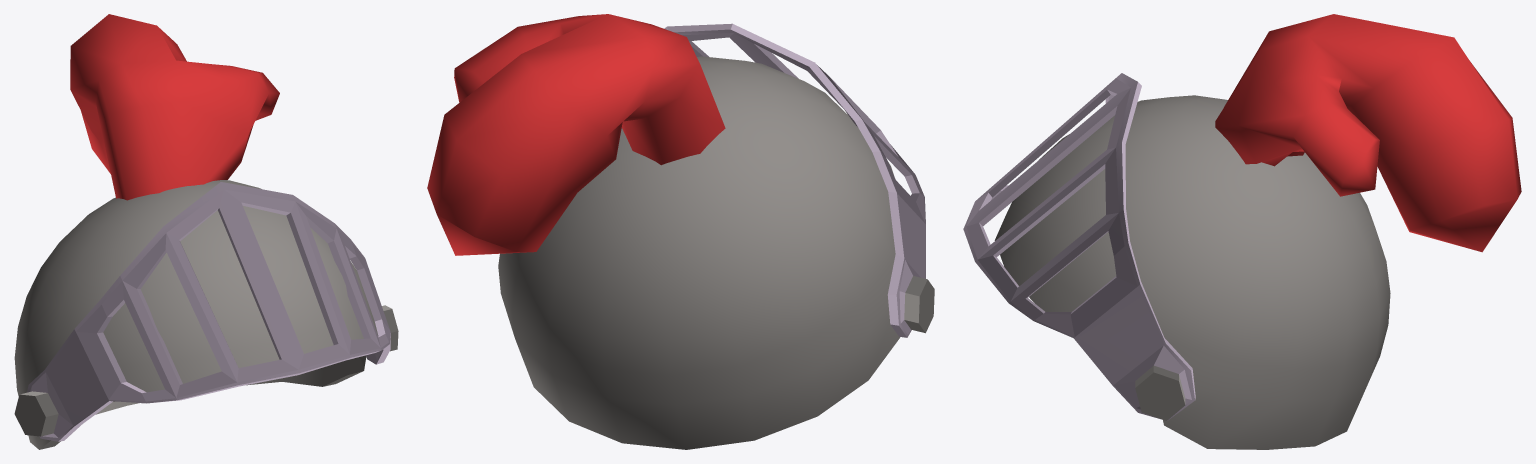
File: Hat_34_01.fbx
3 views of the same model, side by side, from view 1: azimuth 30°, elevation 25°; view 2: azimuth 150°, elevation 25°; view 3: azimuth 270°, elevation 25° (orthographic). The views are drawn at different scales.
Visible parts, largest first — view 1: Hat_34_01; view 2: Hat_34_01; view 3: Hat_34_01.
Boxes of the visible parts, left/top/right/bottom form: Hat_34_01: left=14, top=14, right=398, bottom=449; Hat_34_01: left=427, top=14, right=934, bottom=449; Hat_34_01: left=963, top=14, right=1521, bottom=449.
Bounding box in the file's own units: 48.7 × 44.34 × 57.61.
